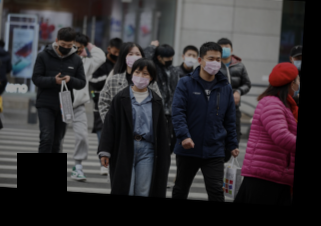with_mask: (130, 67, 151, 89), (200, 53, 221, 74), (124, 49, 143, 69), (56, 39, 74, 56), (183, 51, 199, 67), (217, 42, 231, 59), (291, 55, 302, 71), (108, 47, 120, 61), (161, 54, 173, 66)
